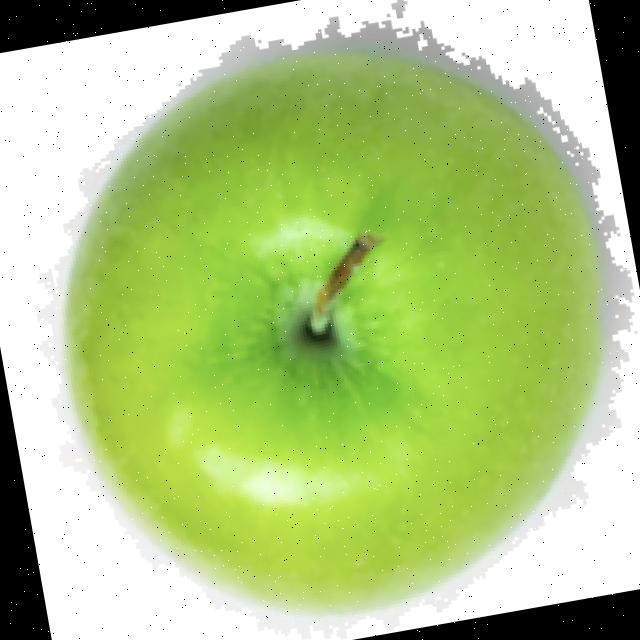apple: (32, 0, 638, 640)
